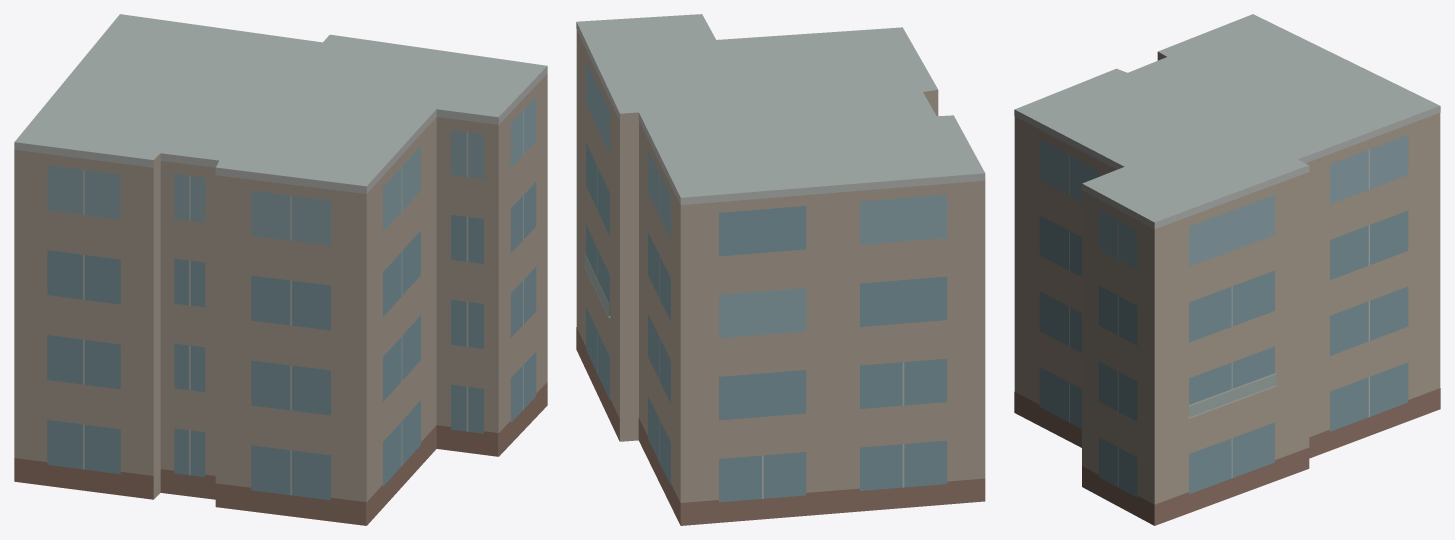
The model's file is survey-upis-32502636.glb.
3 renders of one model, left to right at view 1: azimuth 30°, elevation 25°; view 2: azimuth 150°, elevation 25°; view 3: azimuth 270°, elevation 25°, orthographic. The views are drawn at different scales.
Visible parts, largest first — view 1: survey-upis-32502636.tmp; view 2: survey-upis-32502636.tmp; view 3: survey-upis-32502636.tmp.
Boxes of the visible parts, left/top/right/bottom form: survey-upis-32502636.tmp: left=14, top=14, right=547, bottom=525; survey-upis-32502636.tmp: left=576, top=14, right=985, bottom=525; survey-upis-32502636.tmp: left=1014, top=14, right=1440, bottom=525.
Bounding box in the file's own units: 16.07 × 10.9 × 13.87.
